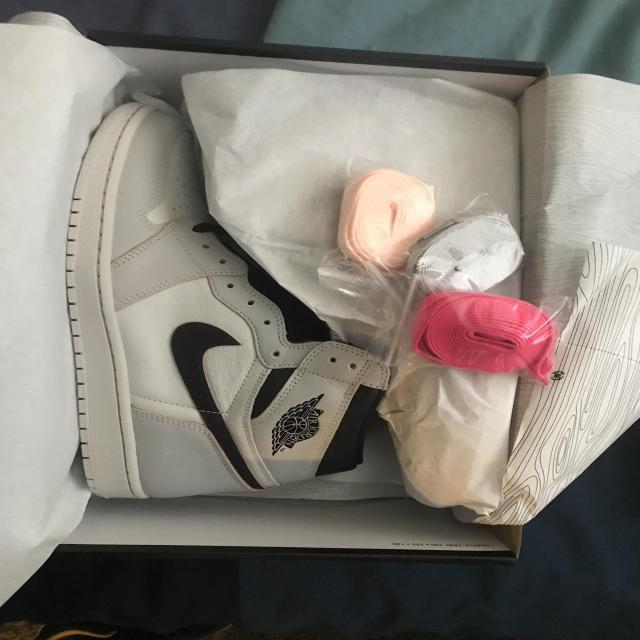shoe: (40, 59, 330, 503)
